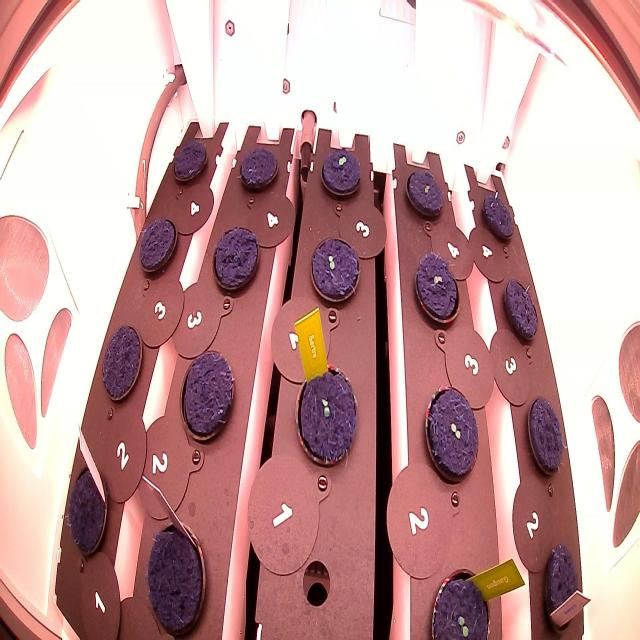germination: (292, 358, 364, 476), (417, 382, 483, 488), (302, 229, 372, 317), (427, 556, 494, 640), (412, 247, 468, 332), (317, 140, 371, 202), (404, 160, 451, 228)
pod: (141, 514, 206, 640), (178, 346, 240, 446), (540, 541, 587, 640), (211, 217, 263, 305), (65, 454, 108, 554), (521, 391, 568, 475), (100, 321, 145, 406), (131, 214, 183, 280), (502, 271, 542, 346), (167, 132, 213, 195), (479, 185, 519, 249), (237, 144, 280, 198)
